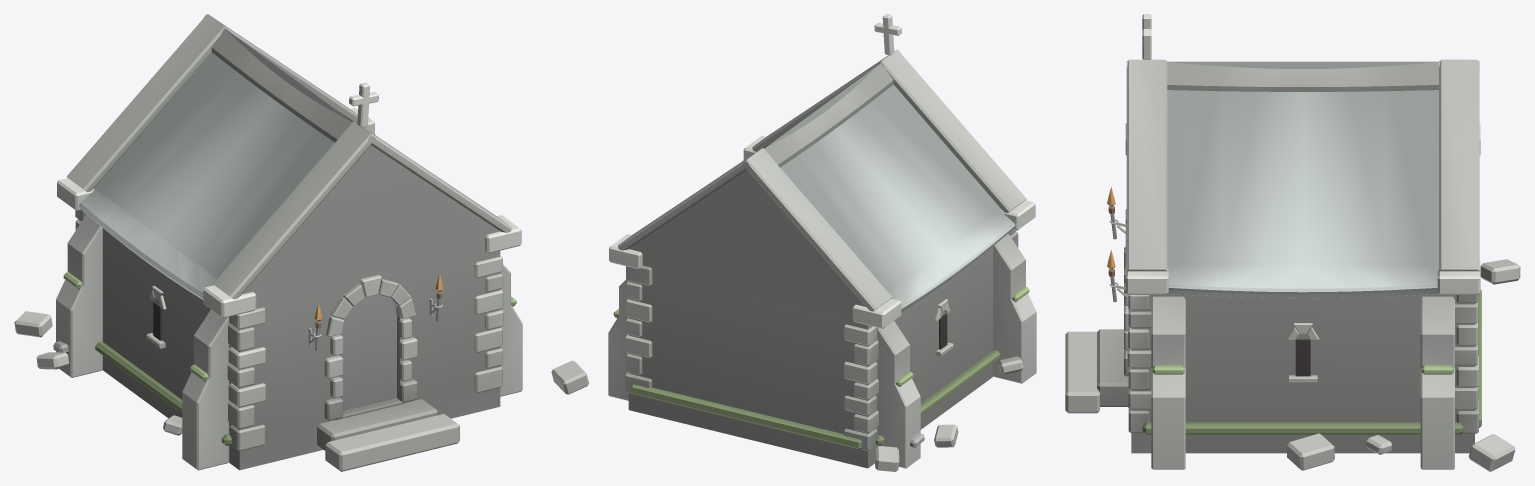
Rendered from crypt.glb.
3 views of the same model, side by side, from view 1: azimuth 30°, elevation 25°; view 2: azimuth 150°, elevation 25°; view 3: azimuth 270°, elevation 25° (orthographic). The views are drawn at different scales.
Parts seen in each view (by area): view 1: bracket; view 2: bracket; view 3: bracket.
Part boxes in pixels (x1,y1,x2,y2): bracket: (14, 14, 522, 471); bracket: (551, 14, 1036, 471); bracket: (1065, 14, 1520, 471).
Bounding box in the file's own units: 8.66 × 7.16 × 7.94.
